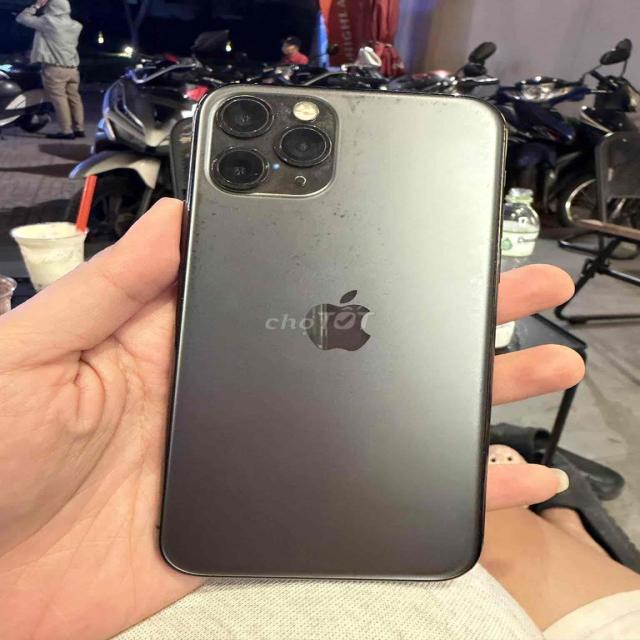scratch: (185, 78, 445, 306)
